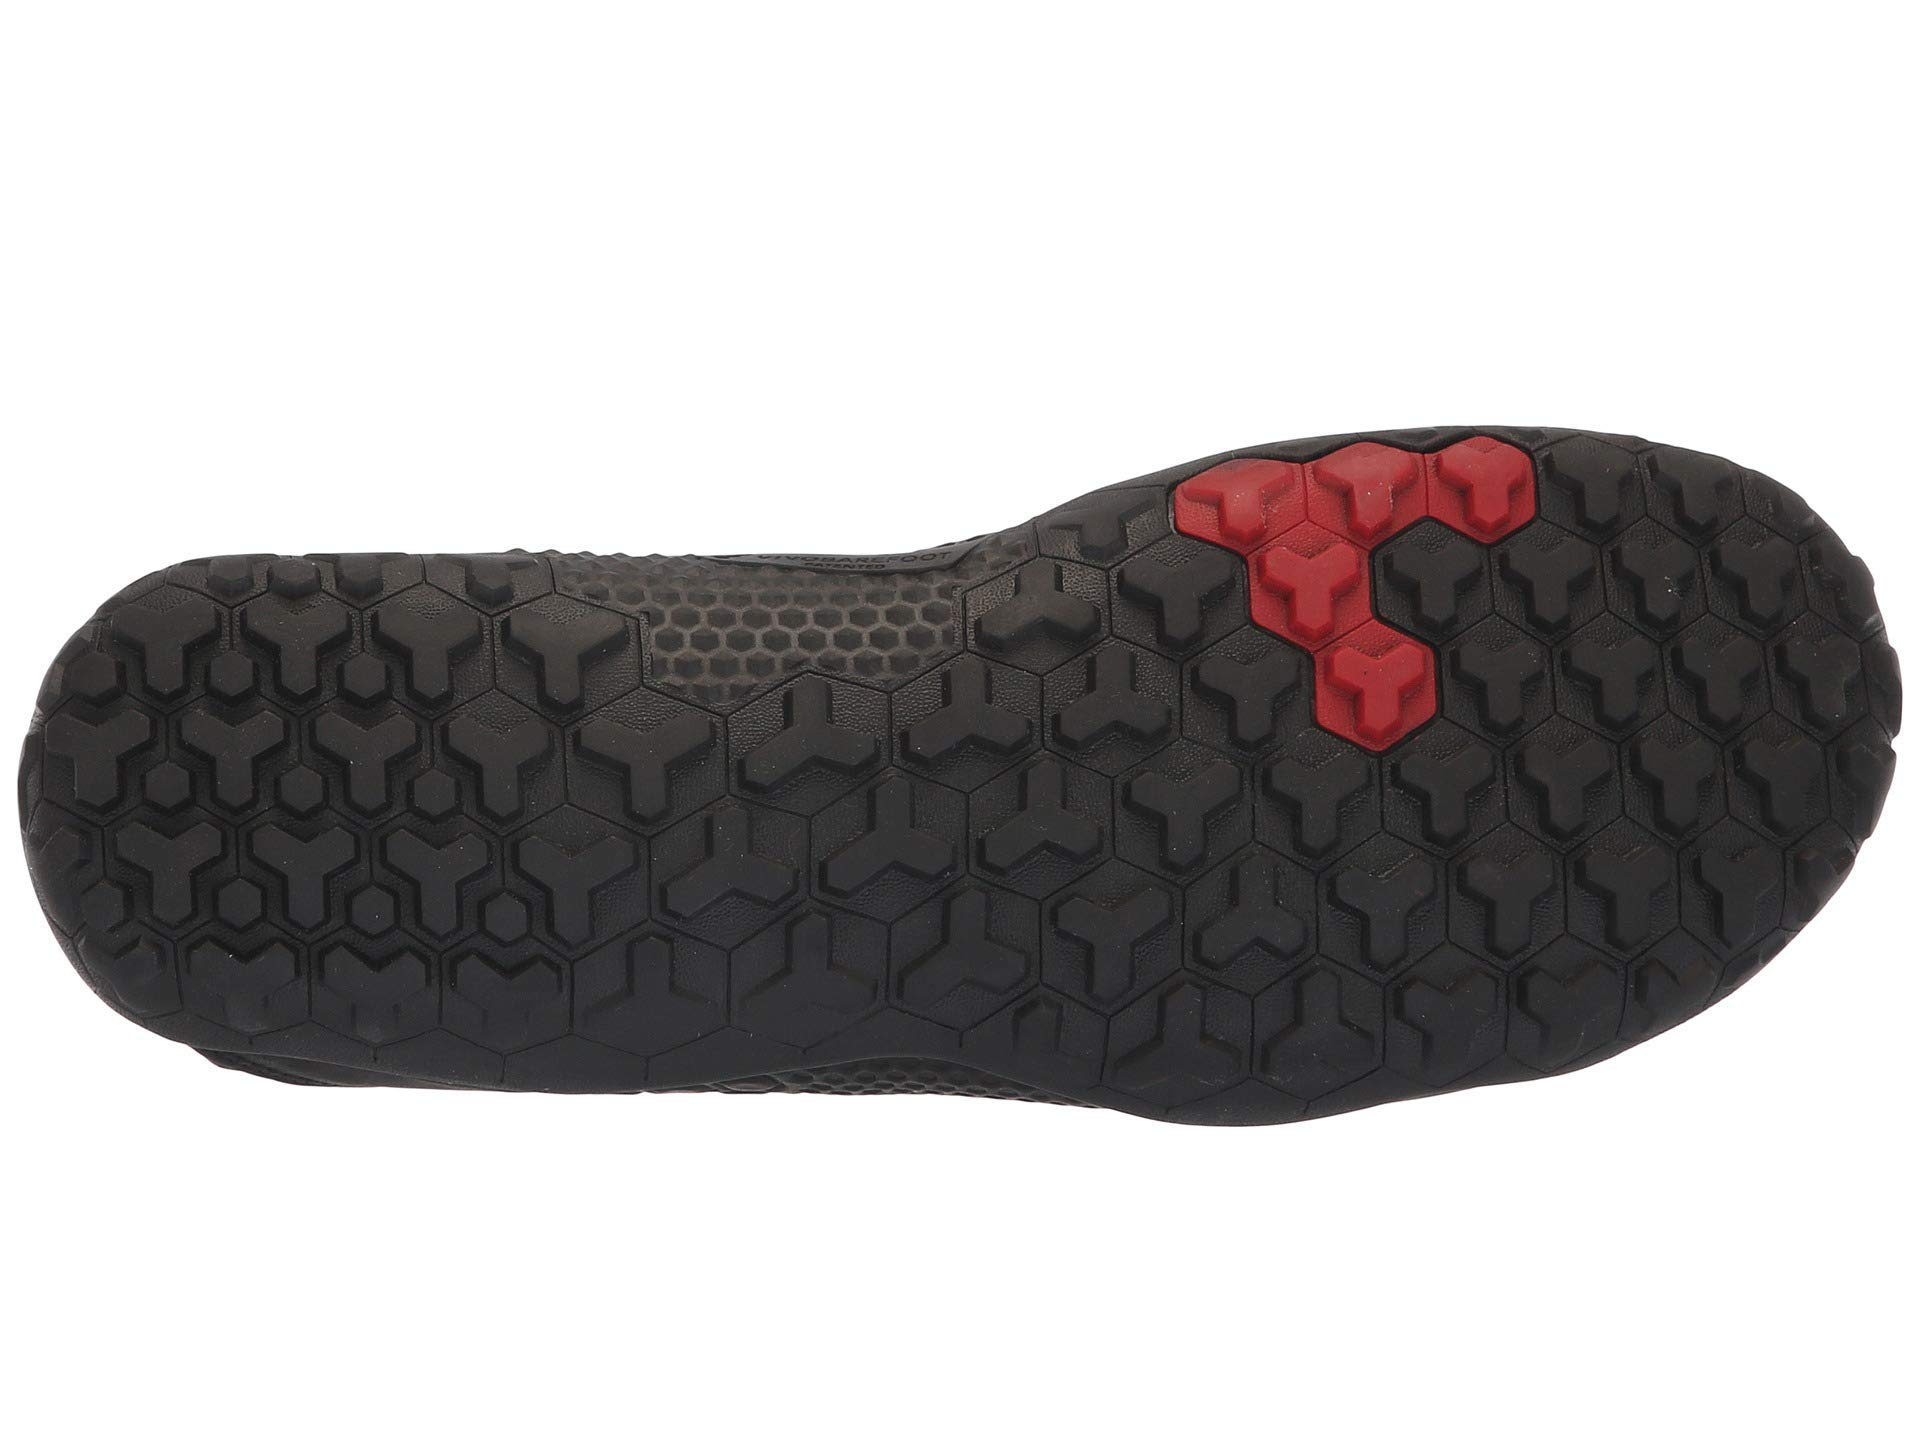polygon: (1172, 446, 1575, 743), (91, 664, 417, 968)
star: (1172, 446, 1575, 743), (91, 664, 417, 968)
